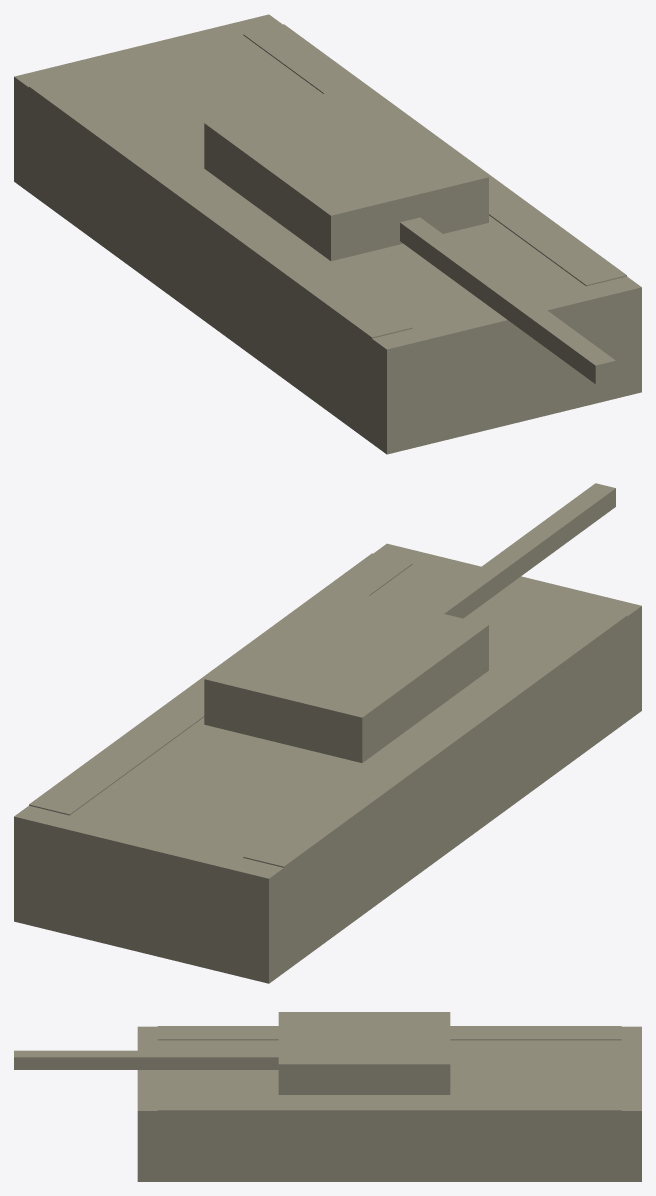
File: panther.glb
3 renders of one model, top to bottom at view 1: azimuth 30°, elevation 25°; view 2: azimuth 150°, elevation 25°; view 3: azimuth 270°, elevation 25°, orthographic. The views are drawn at different scales.
Parts seen in each view (by area): view 1: Hull, Turret, Track_L, Track_R, Gun; view 2: Hull, Turret, Track_L, Track_R, Gun; view 3: Hull, Track_R, Turret, Gun, Track_L.
Part boxes in pixels (x1,y1,x2,y2): Hull: (14,14,641,454); Turret: (204,84,488,261); Track_L: (29,76,412,388); Track_R: (243,24,626,286); Gun: (400,217,615,384); Hull: (14,543,641,983); Turret: (204,586,488,762); Track_L: (243,605,626,917); Track_R: (29,553,412,815); Gun: (424,483,615,618); Hull: (137,1026,641,1181); Track_R: (157,1096,621,1144); Turret: (278,1012,450,1094); Gun: (14,1050,278,1069); Track_L: (157,1026,621,1040).
Bounding box in the file's own units: 3.42 × 1.93 × 10.78.
